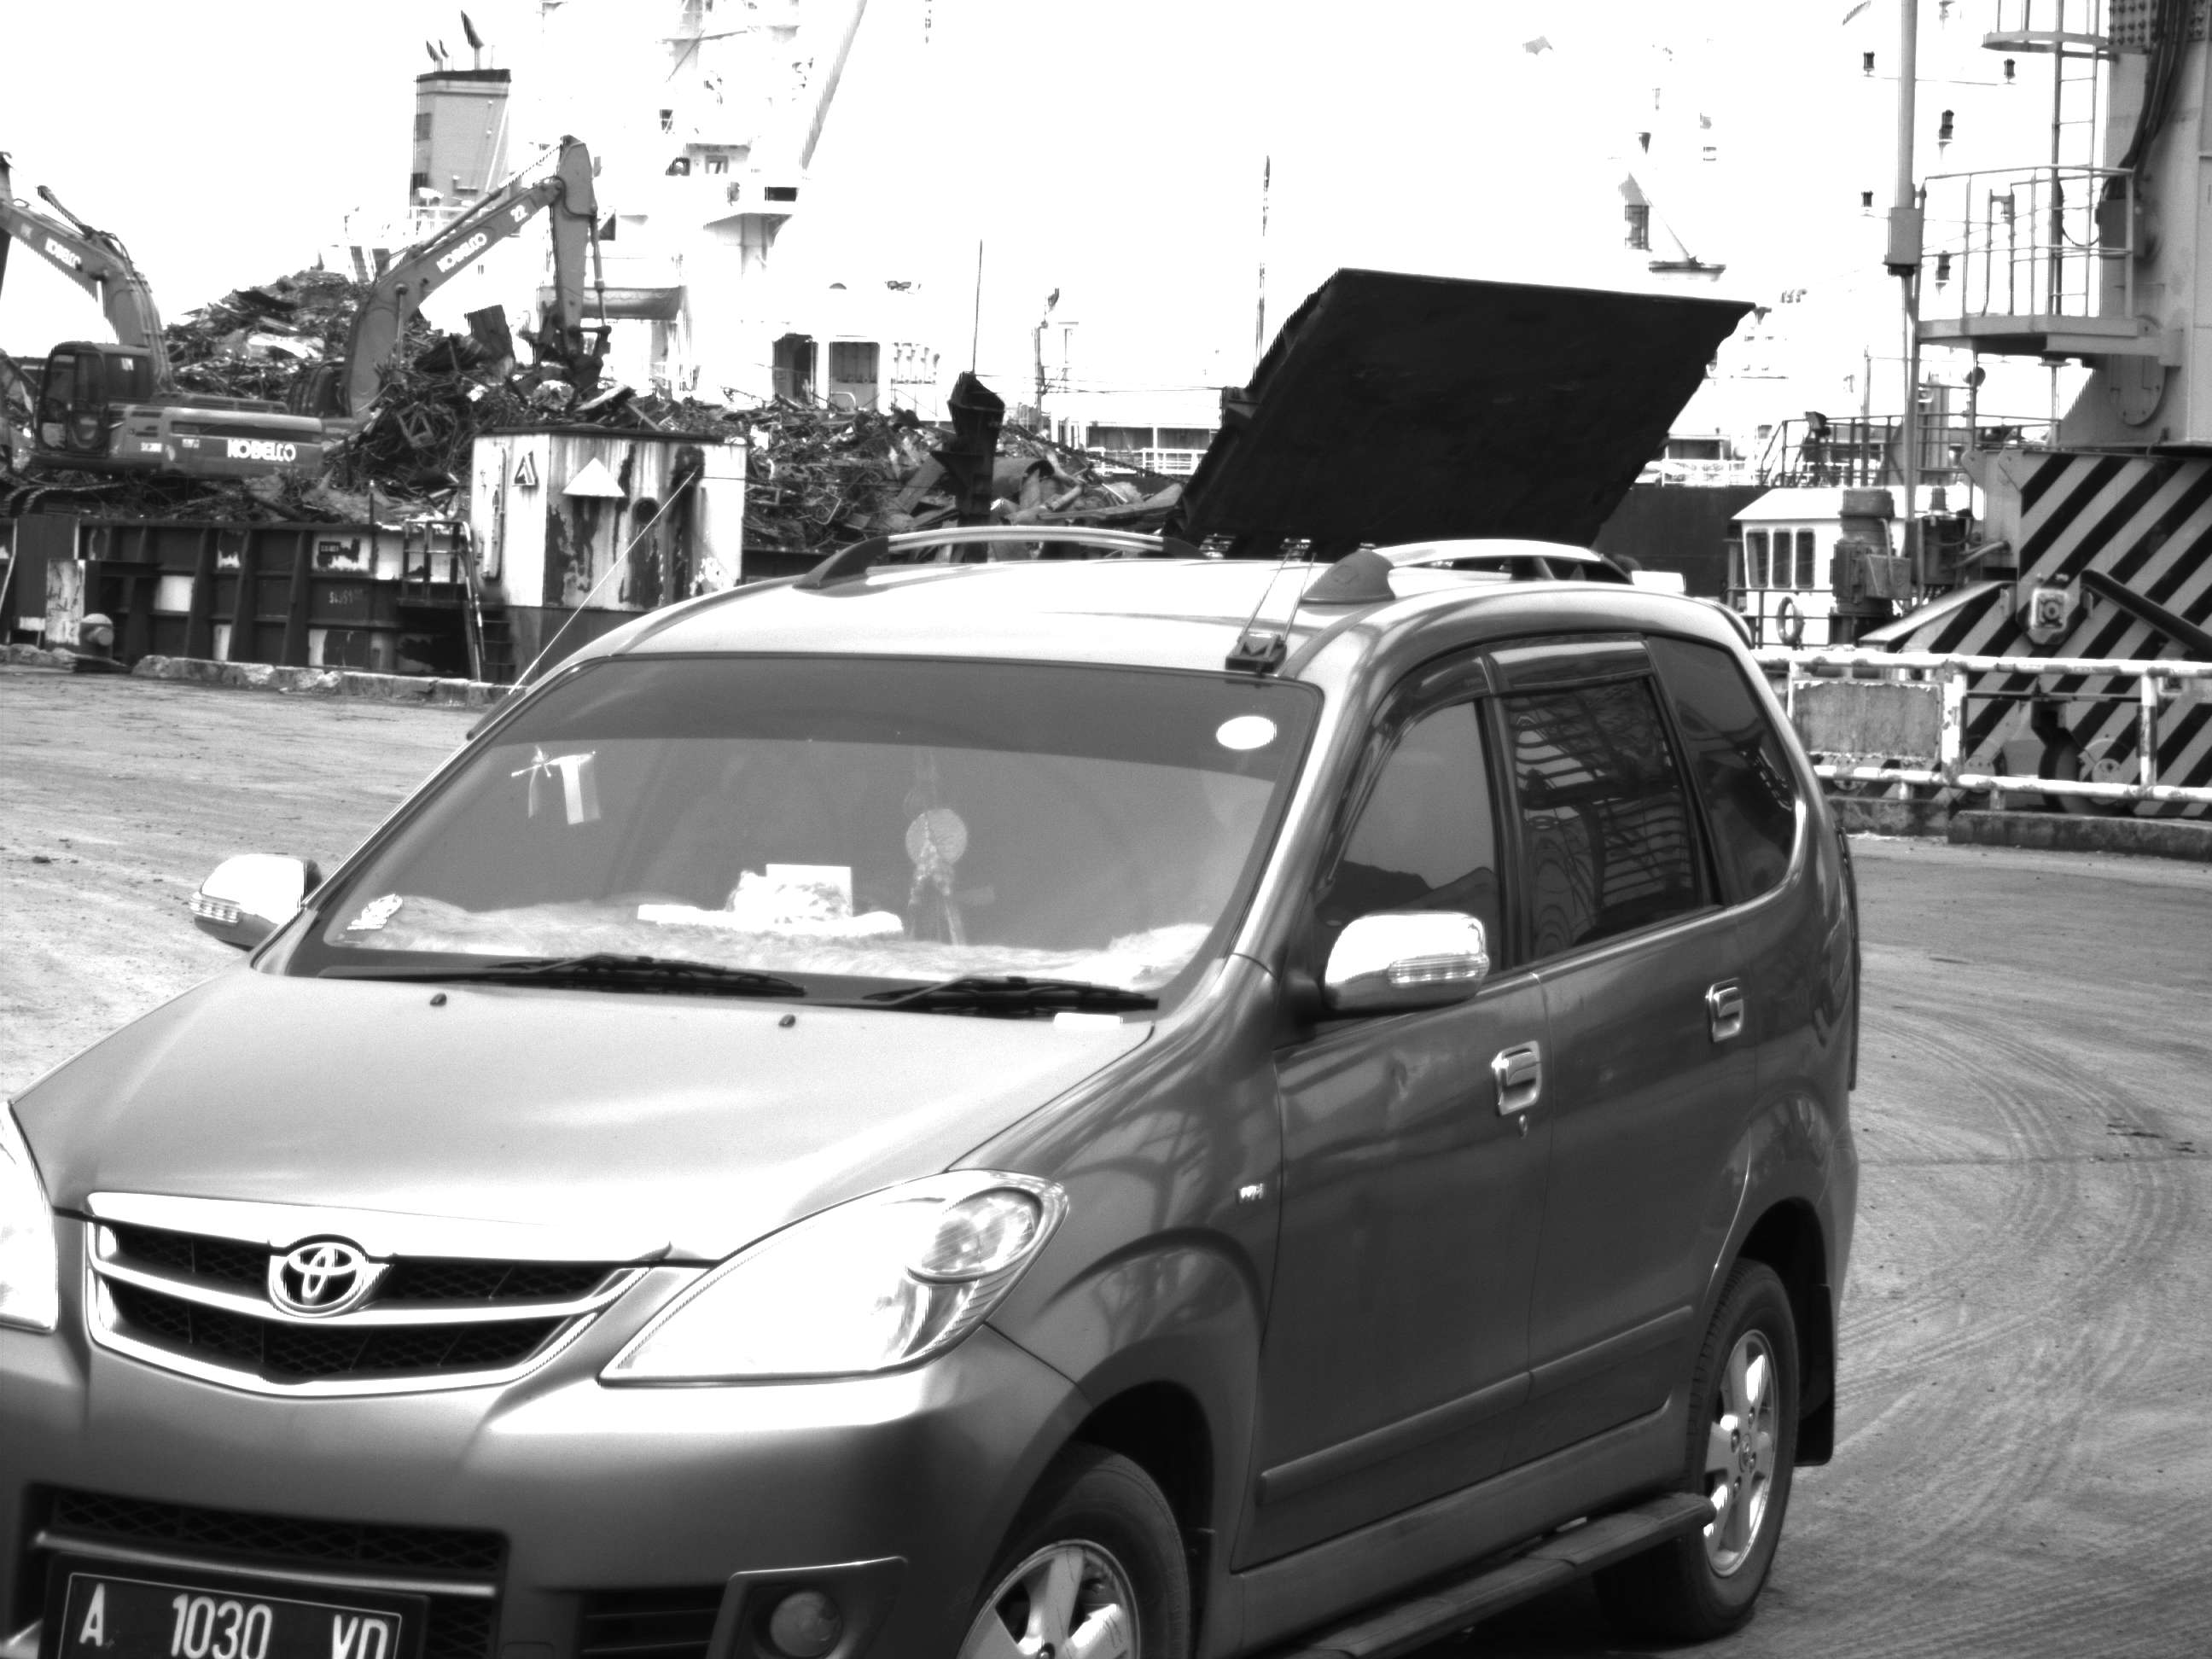car: (0, 509, 1879, 1659)
